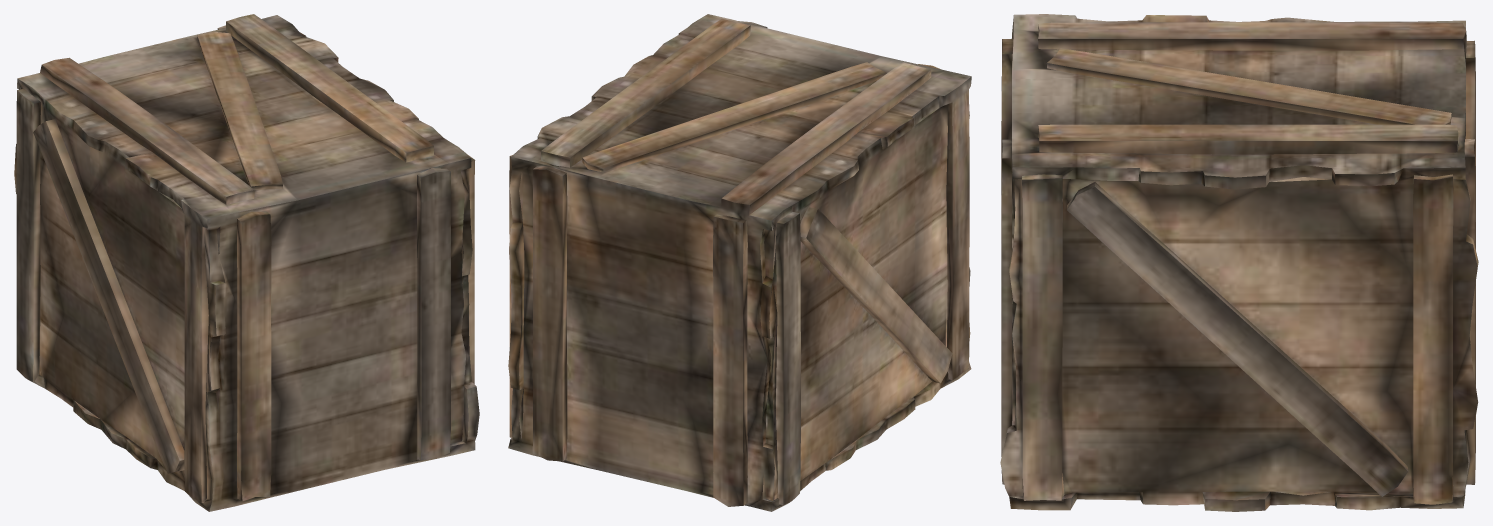
Rendered from wooden_box_02.glb.
3 renders of one model, left to right at view 1: azimuth 30°, elevation 25°; view 2: azimuth 150°, elevation 25°; view 3: azimuth 270°, elevation 25°, orthographic. The views are drawn at different scales.
Parts seen in each view (by area): view 1: wooden_box_02; view 2: wooden_box_02; view 3: wooden_box_02.
Boxes of the visible parts, x1,y1,x2,y2 form: wooden_box_02: (14, 14, 479, 511); wooden_box_02: (508, 14, 971, 511); wooden_box_02: (1000, 14, 1478, 511).
Size of what is drawn, in the model's own units: 0.2637 by 0.2757 by 0.338.
1 material, 1 textured.
